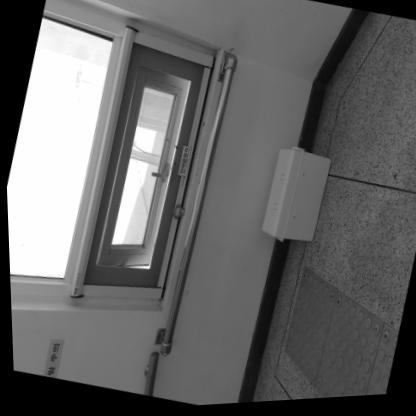DDL: (255, 143, 334, 250)
